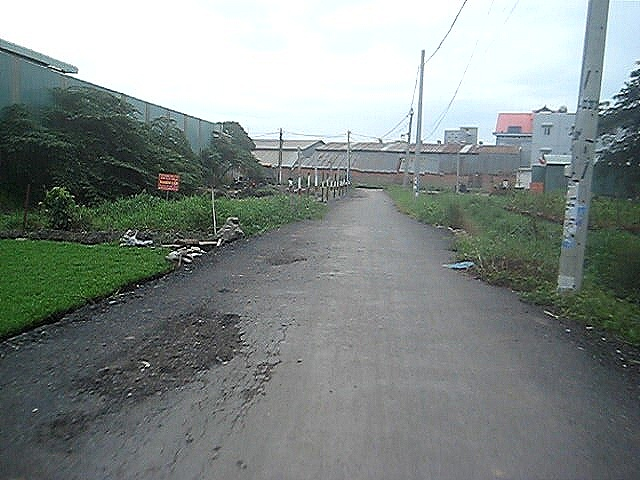hole: (74, 307, 247, 412), (266, 253, 306, 266)
